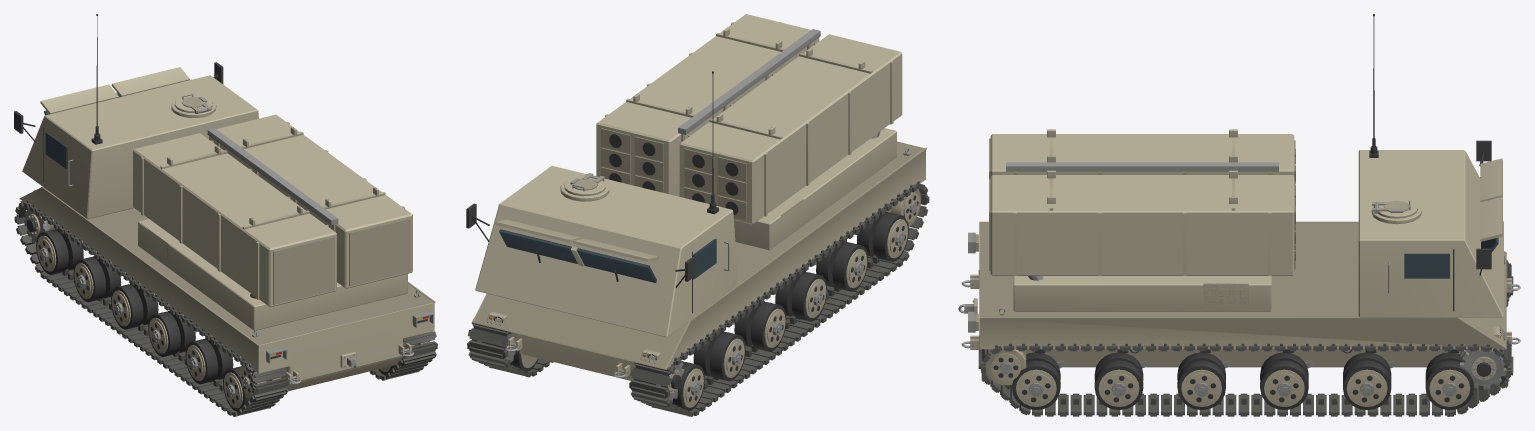
Rendered from usa_mlrs_m270.glb.
The picture shows the model from 3 angles, left to right: view 1: azimuth 30°, elevation 25°; view 2: azimuth 150°, elevation 25°; view 3: azimuth 270°, elevation 25°; orthographic projection. The views are drawn at different scales.
Parts seen in each view (by area): view 1: body, barrel, turret; view 2: body, barrel, turret; view 3: body, barrel, turret.
Boxes of the visible parts, x1,y1,x2,y2 form: body: (14, 14, 437, 416); barrel: (133, 114, 412, 307); turret: (138, 219, 407, 330); body: (466, 71, 929, 416); barrel: (596, 14, 902, 224); turret: (734, 128, 896, 250); body: (958, 14, 1520, 416); barrel: (989, 129, 1295, 275); turret: (1013, 276, 1271, 311).
Bounding box in the file's own units: 3.41 × 4.58 × 7.41.
